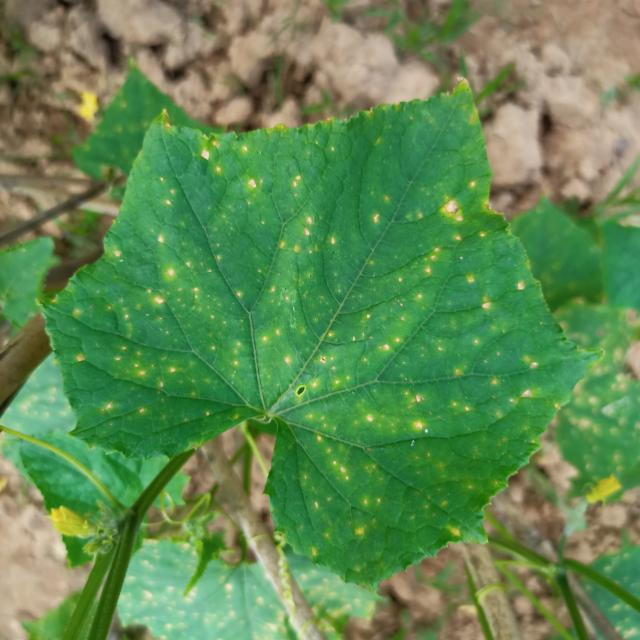disease_cucumber: (88, 108, 534, 548)
